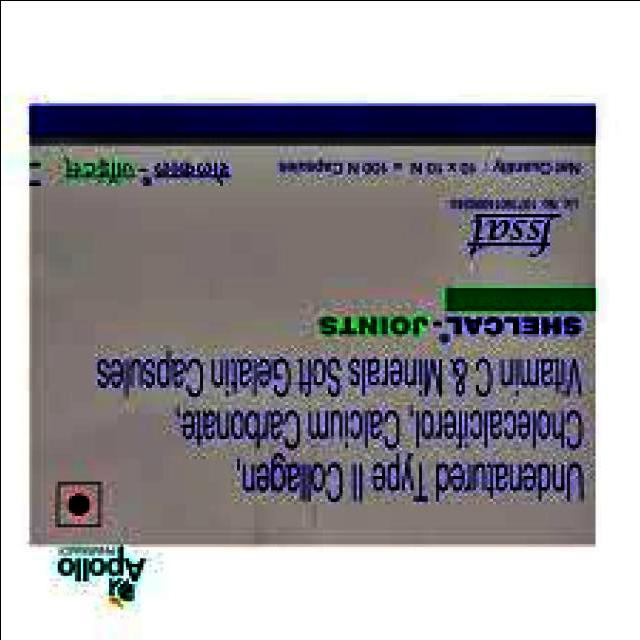authentic: (2, 62, 607, 610)
